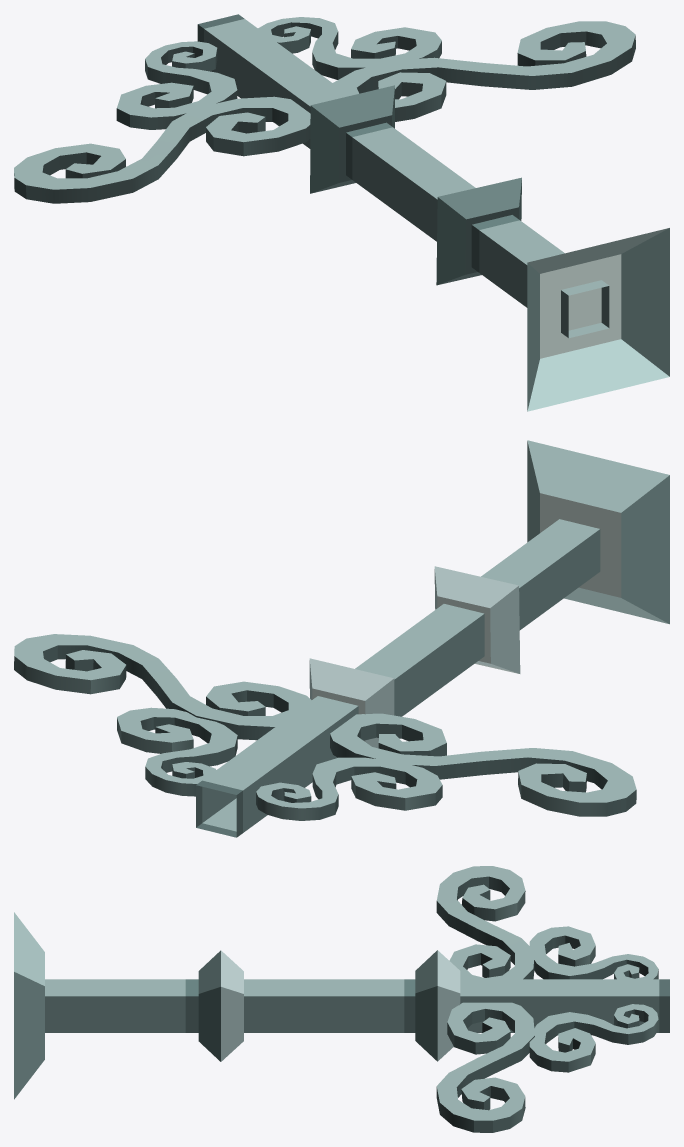
Rendered from HolidayCandleabraSilver.fbx.
3 views of the same model, one above another, from view 1: azimuth 30°, elevation 25°; view 2: azimuth 150°, elevation 25°; view 3: azimuth 270°, elevation 25° (orthographic). The views are drawn at different scales.
Visible parts, largest first — view 1: HolidayCandleabraSilver; view 2: HolidayCandleabraSilver; view 3: HolidayCandleabraSilver.
Part boxes in pixels (x1=…): HolidayCandleabraSilver: x1=14, y1=14, x2=669, y2=411; HolidayCandleabraSilver: x1=14, y1=440, x2=669, y2=837; HolidayCandleabraSilver: x1=14, y1=866, x2=669, y2=1132.
Size of the model in its own units: 132 by 30.79 by 143.
